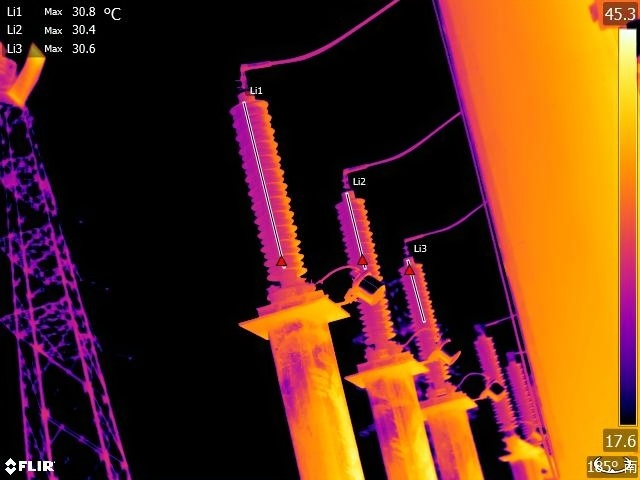lightning arrester: (226, 86, 317, 290), (336, 186, 411, 365), (396, 253, 469, 395), (474, 329, 521, 436), (505, 355, 541, 445)
